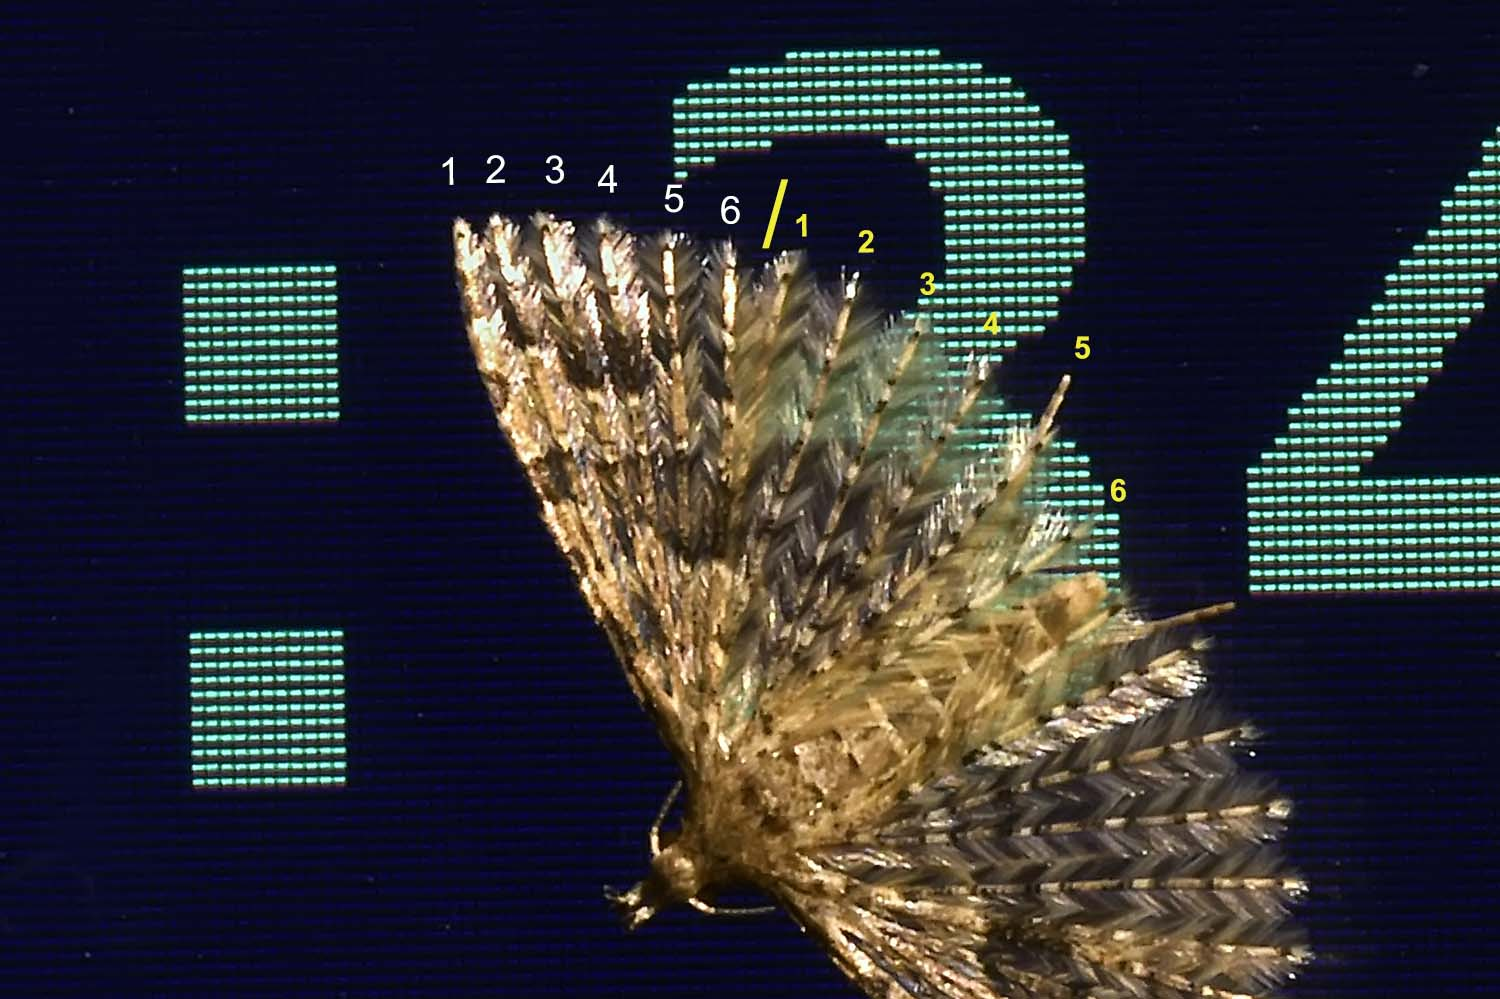Alucitidae: (454, 216, 1343, 999)
moth: (452, 214, 1341, 997)
